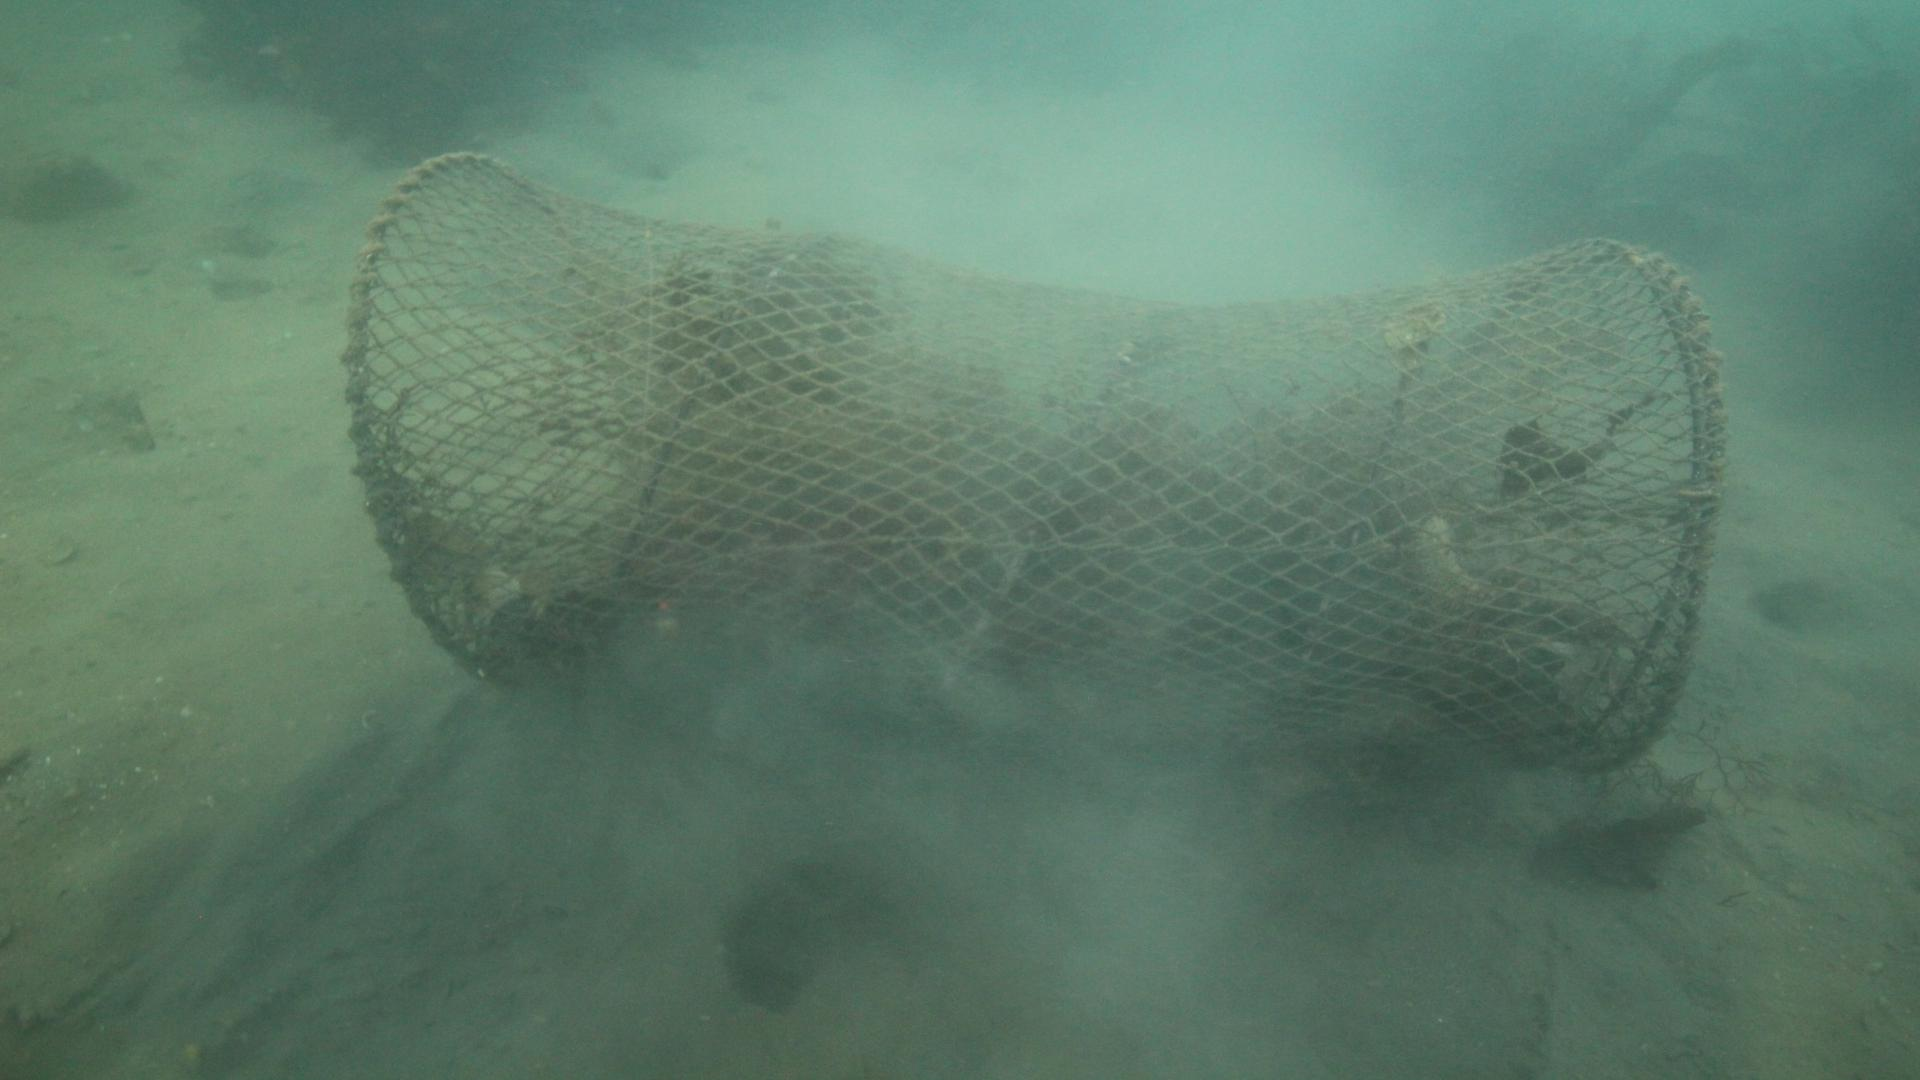spring fish trap: (336, 149, 1726, 771)
